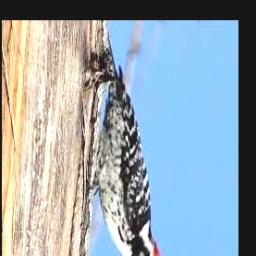Woodpecker: (93, 53, 161, 256)
